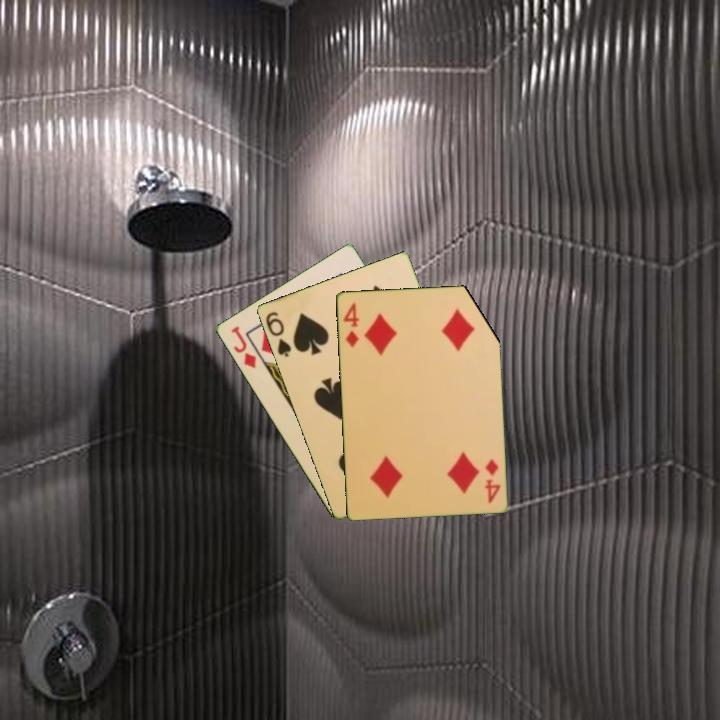4d: (481, 455, 503, 506), (340, 299, 361, 350)
6s: (262, 308, 294, 360)
Jd: (227, 322, 259, 371)
